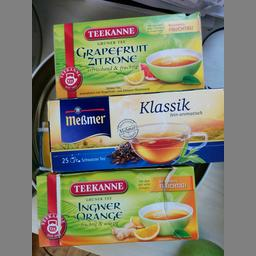tea: (46, 86, 223, 172), (50, 9, 204, 98), (36, 166, 198, 248)
